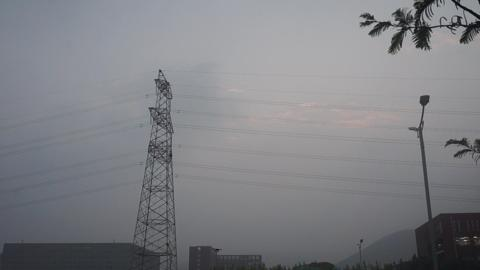UAV: (212, 248, 222, 252)
